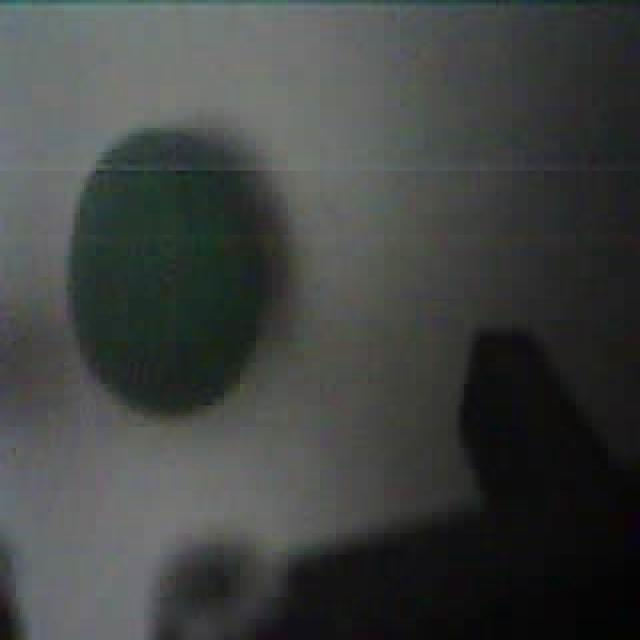green_ball: (62, 120, 284, 421)
